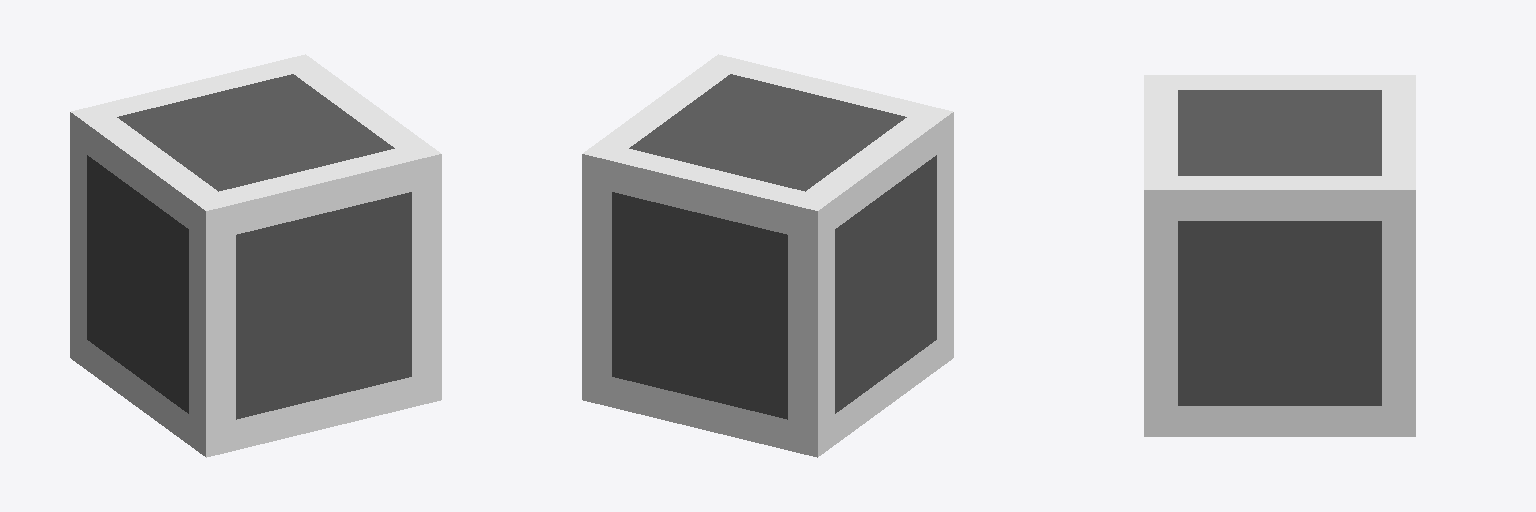
3 renders of one model, left to right at view 1: azimuth 30°, elevation 25°; view 2: azimuth 150°, elevation 25°; view 3: azimuth 270°, elevation 25°, orthographic.
Parts seen in each view (by area): view 1: Cube; view 2: Cube; view 3: Cube.
Part boxes in pixels (x1,y1,x2,y2): Cube: (70, 54, 441, 457); Cube: (582, 54, 953, 457); Cube: (1144, 75, 1415, 436).
Bounding box in the file's own units: 2 × 2 × 2.
1 materials, 1 textured.